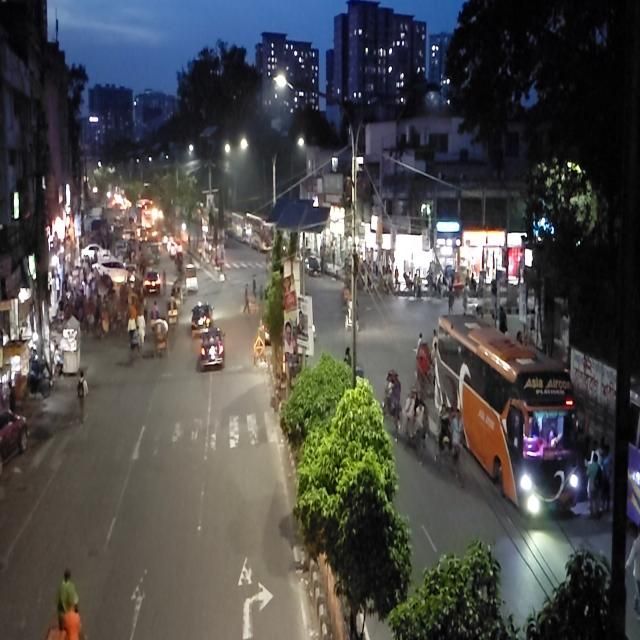black: (200, 324, 225, 369), (190, 303, 212, 336)
